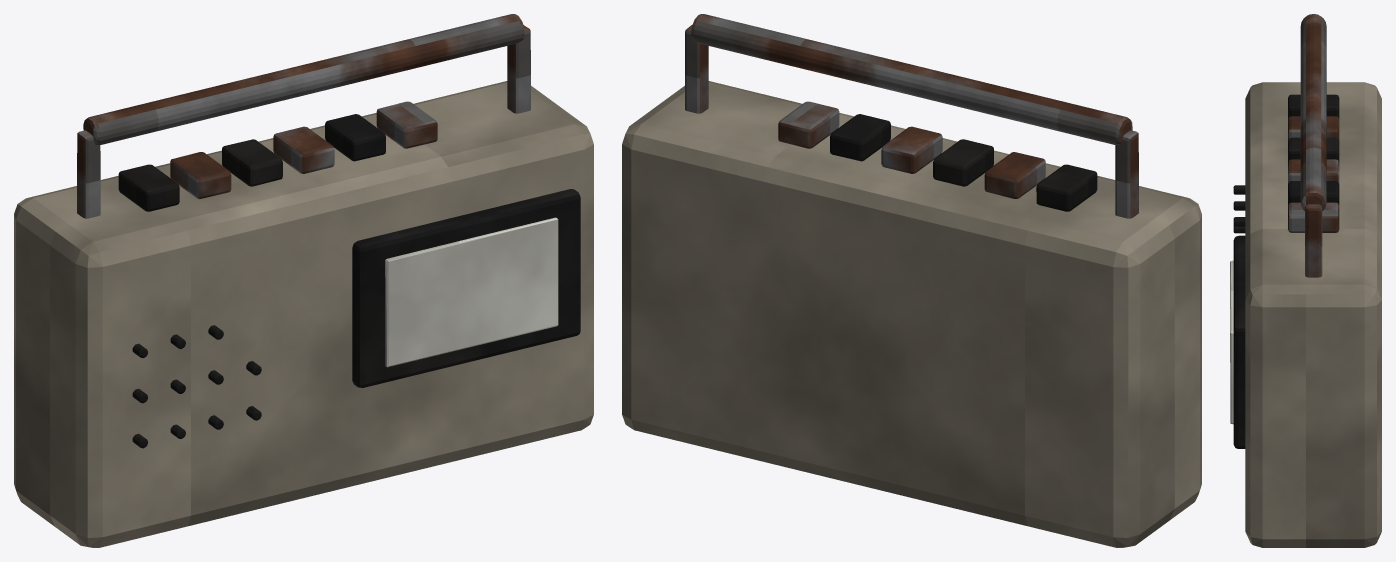
The model's file is F19_cassette_recorder.glb.
3 renders of one model, left to right at view 1: azimuth 30°, elevation 25°; view 2: azimuth 150°, elevation 25°; view 3: azimuth 270°, elevation 25°, orthographic. The views are drawn at different scales.
Visible parts, largest first — view 1: F19_cassette_recorder; view 2: F19_cassette_recorder; view 3: F19_cassette_recorder.
Boxes of the visible parts, box(x1,y1,x2,y2) form: F19_cassette_recorder: box(14, 14, 593, 547); F19_cassette_recorder: box(622, 14, 1201, 547); F19_cassette_recorder: box(1230, 14, 1381, 547).
Size of the model in its own units: 0.3 by 0.2226 by 0.089.
Materials: 4 (4 with a texture image).
